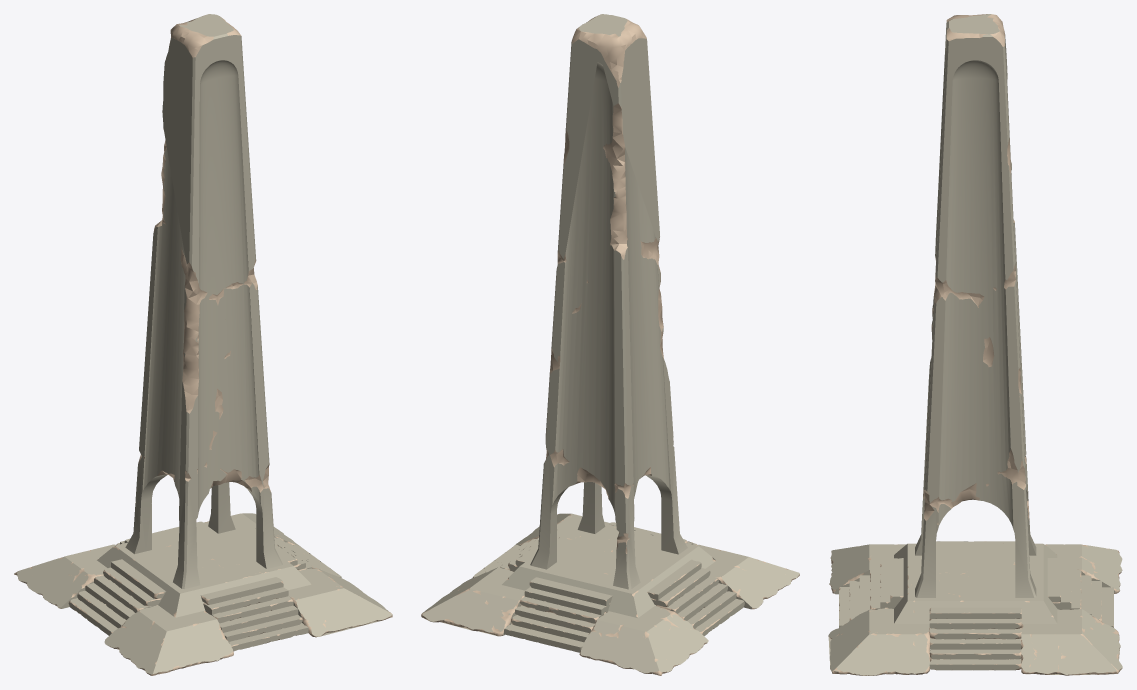
Rendered from Cairn Tower.fbx.
3 renders of one model, left to right at view 1: azimuth 30°, elevation 25°; view 2: azimuth 150°, elevation 25°; view 3: azimuth 270°, elevation 25°, orthographic. The views are drawn at different scales.
Visible parts, largest first — view 1: Cube.014, Cube.016, Cube.015, Cube.013; view 2: Cube.014, Cube.016, Cube.015, Cube.013; view 3: Cube.014, Cube.016, Cube.015, Cube.013.
Part boxes in pixels (<box>): Cube.014: <box>125,14,282,588</box>; Cube.016: <box>14,513,392,675</box>; Cube.015: <box>68,521,341,651</box>; Cube.013: <box>97,522,311,617</box>; Cube.014: <box>530,14,687,589</box>; Cube.016: <box>421,513,799,675</box>; Cube.015: <box>472,522,744,652</box>; Cube.013: <box>502,522,715,617</box>; Cube.014: <box>915,14,1036,597</box>; Cube.016: <box>828,544,1122,675</box>; Cube.015: <box>839,541,1113,670</box>; Cube.013: <box>894,543,1057,624</box>.
Size of the model in its own units: 1384 by 3048 by 1378.
